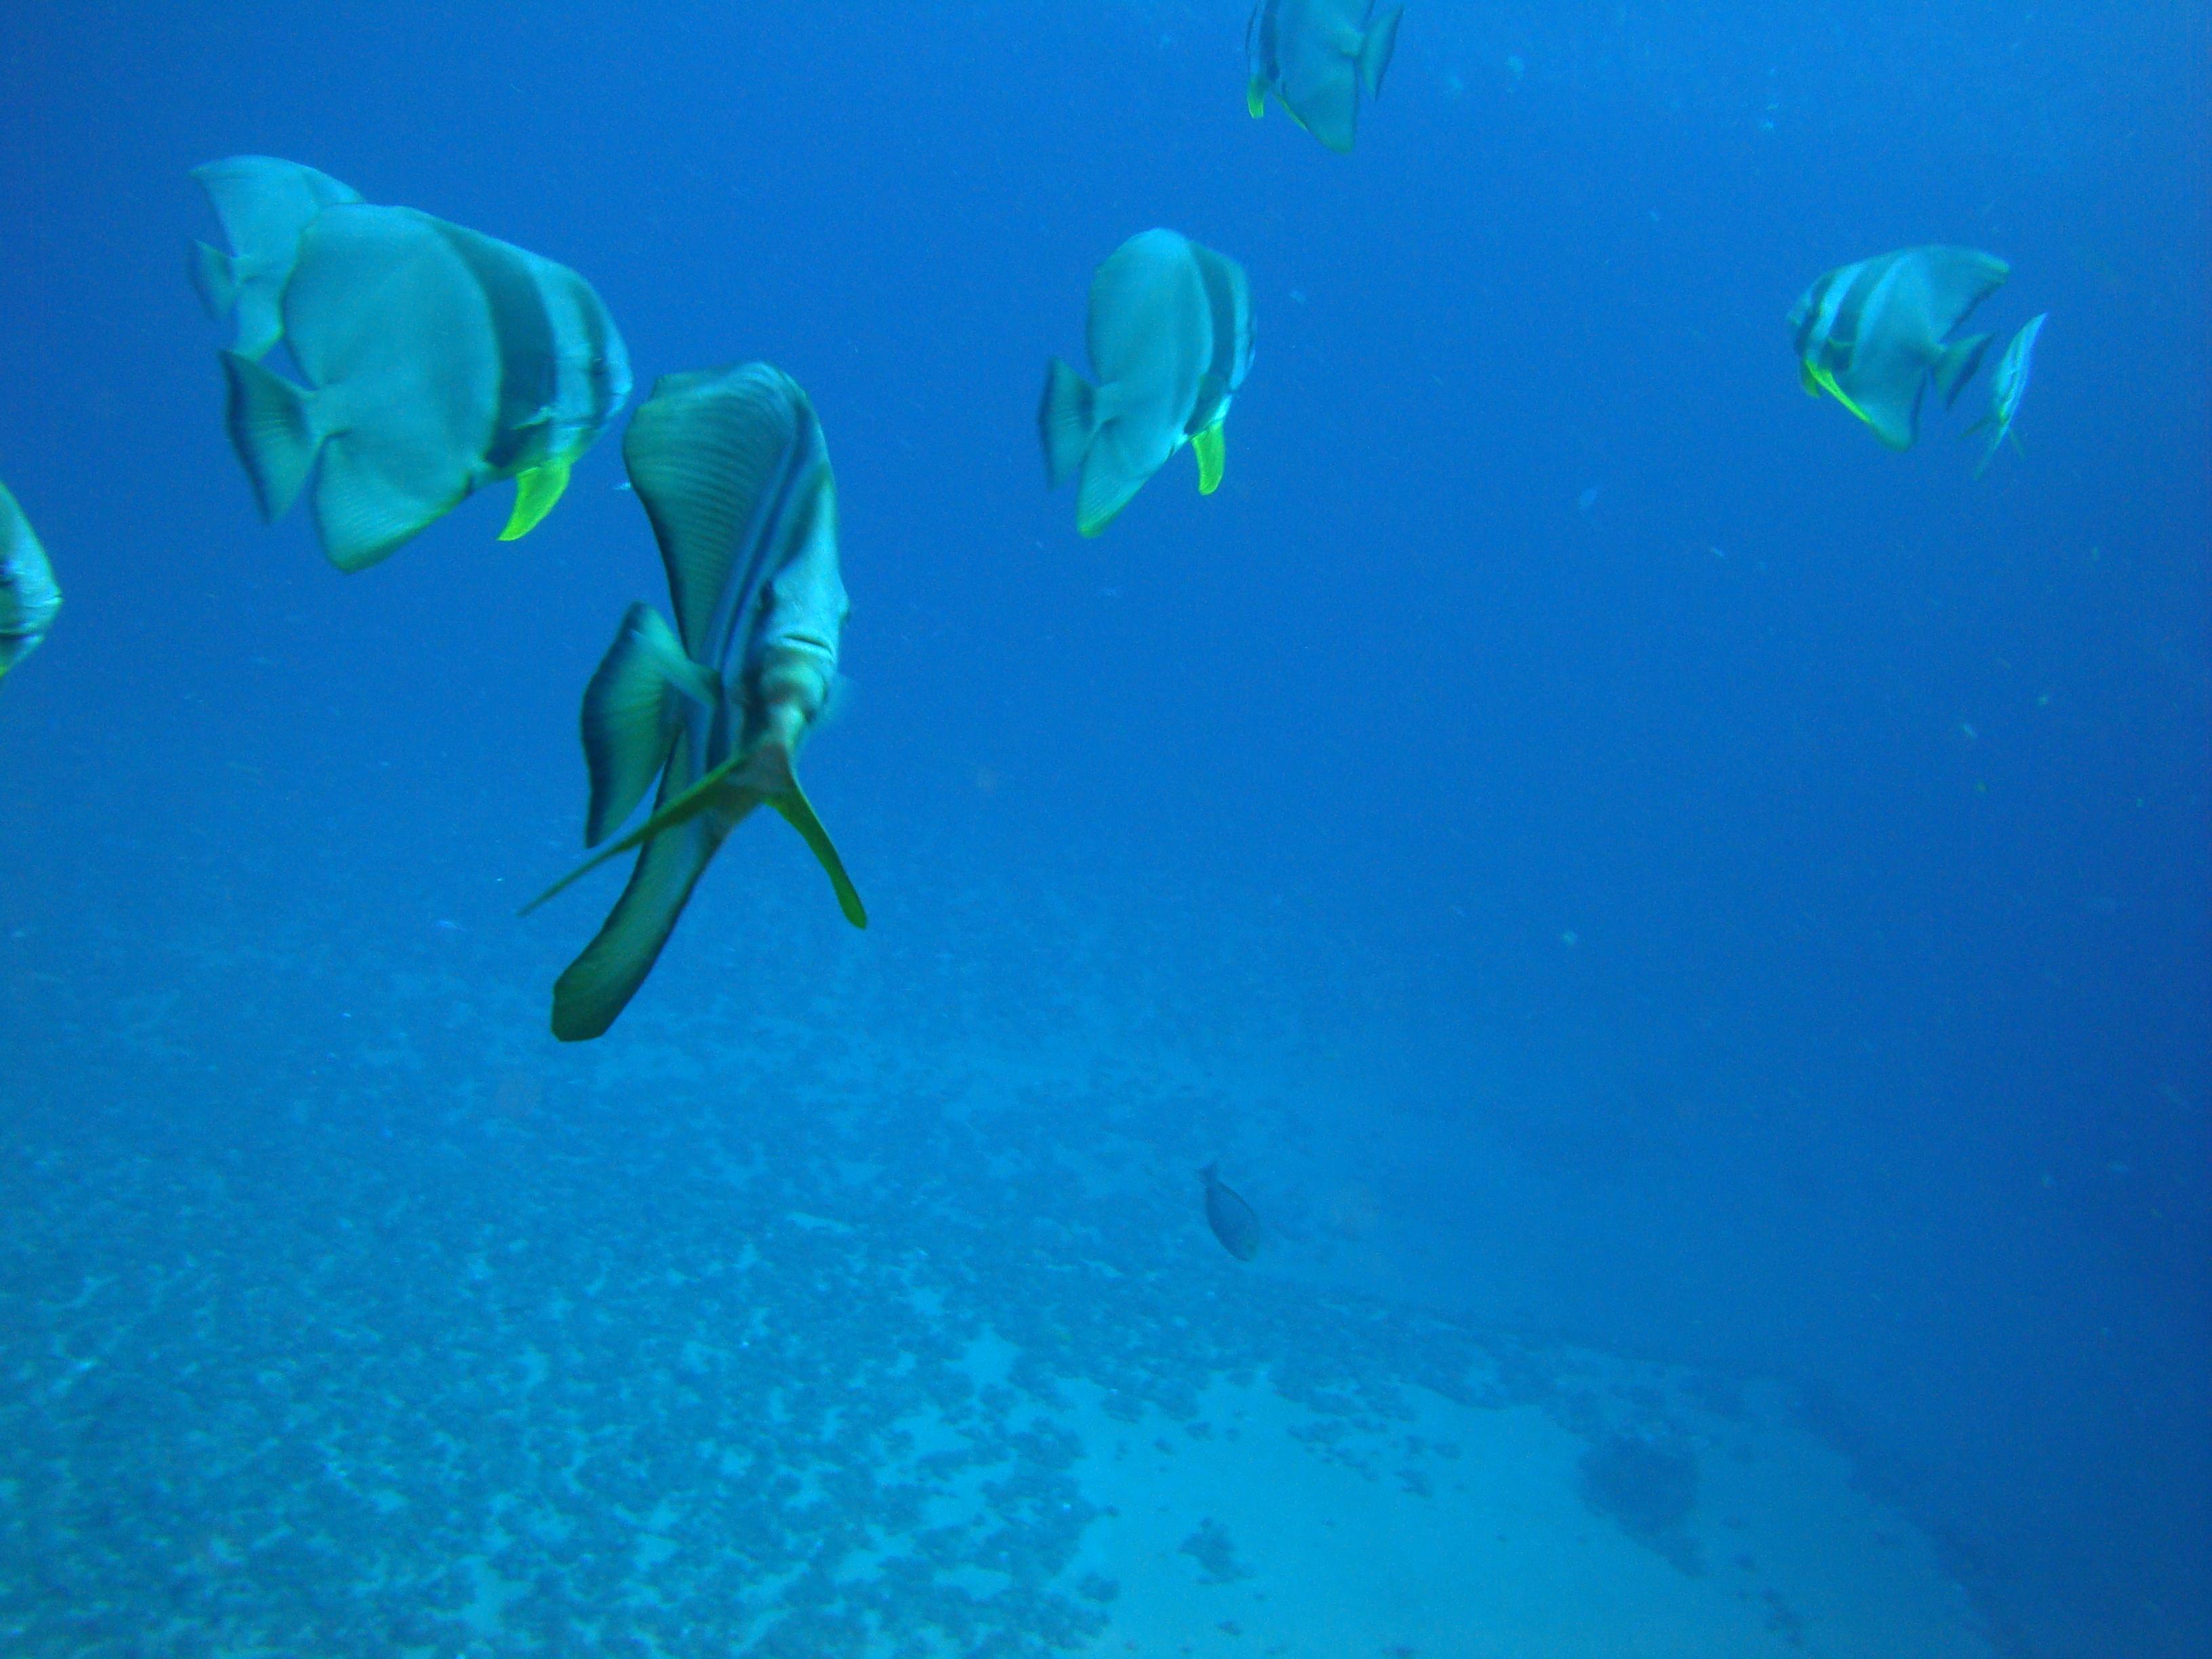Fish: (540, 333, 885, 1072), (221, 207, 632, 584), (1777, 218, 2071, 491), (1054, 211, 1294, 545)
